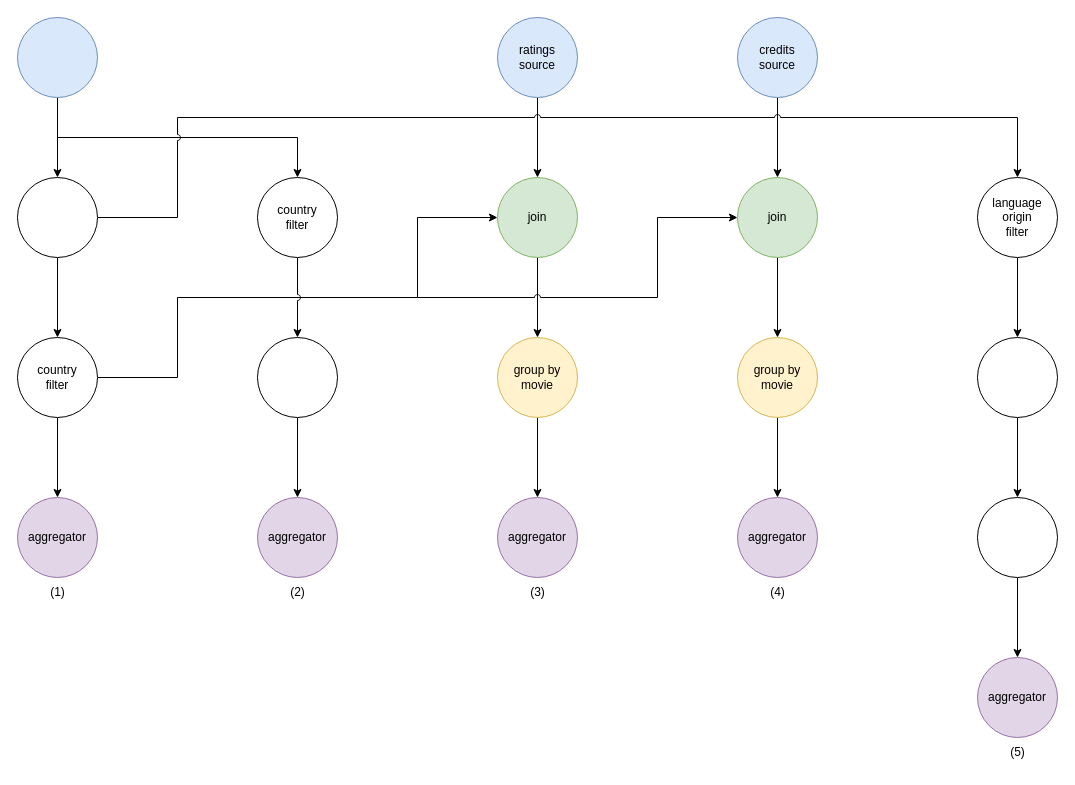
Image size: 1075x785. Some labels were removed from this diagram. The centre of each missing label's shape, as x and y in pixels:
average filter: (1017,537)
investment filter: (297,377)
movies source: (57,57)
overview filter: (1017,377)
year filter: (57,217)
